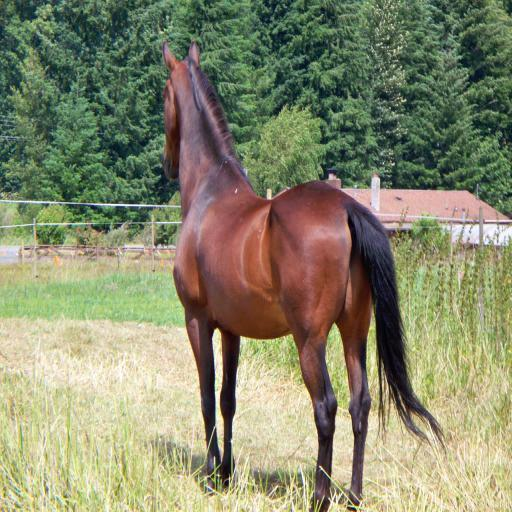Horse: (158, 42, 448, 512)
